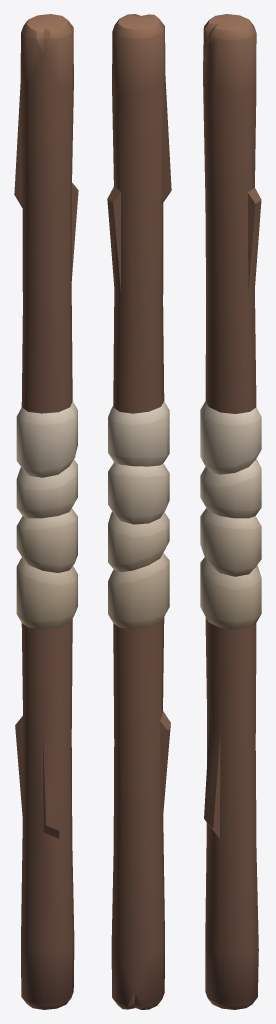
The model's file is staff_A.fbx.
3 views of the same model, side by side, from view 1: azimuth 30°, elevation 25°; view 2: azimuth 210°, elevation 25°; view 3: azimuth 330°, elevation 25° (orthographic).
Parts seen in each view (by area): view 1: staff_A; view 2: staff_A; view 3: staff_A.
Part boxes in pixels (x1,y1,x2,y2): staff_A: (14,14,78,1009); staff_A: (107,14,171,1009); staff_A: (200,14,261,1009).
Bounding box in the file's own units: 0.1249 × 2.15 × 0.1115.
